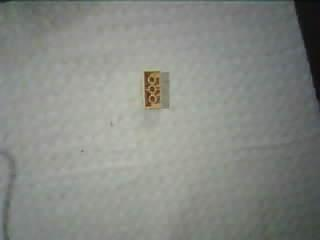lego: (142, 68, 163, 111)
